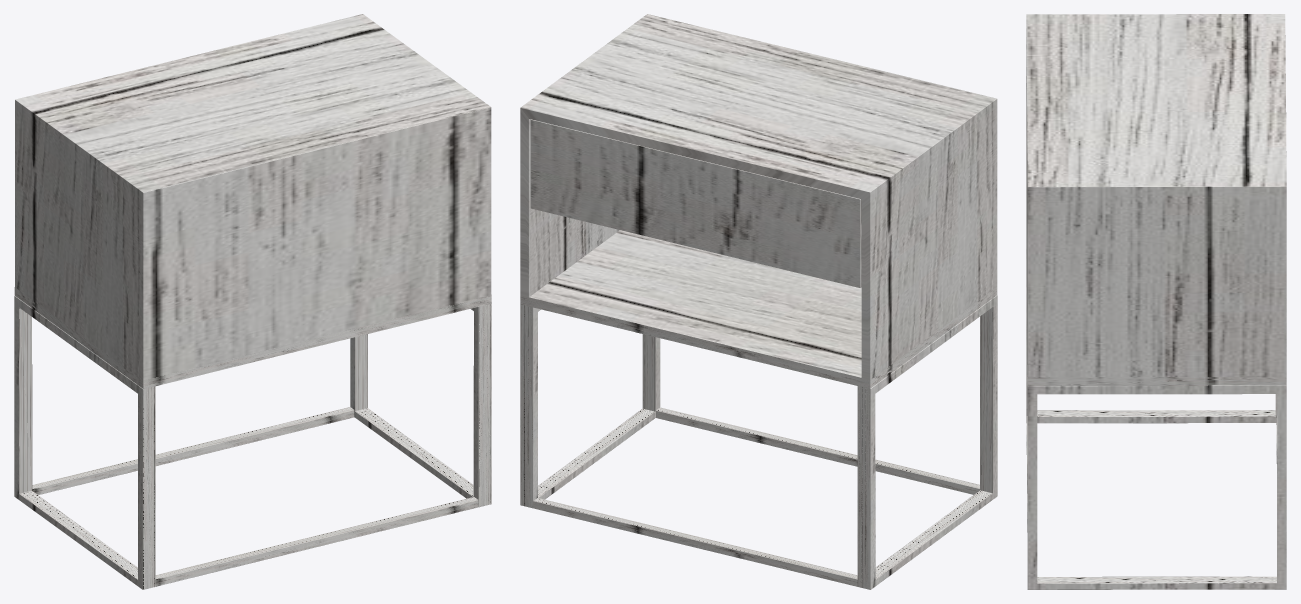
File: mueble2.obj
3 views of the same model, side by side, from view 1: azimuth 30°, elevation 25°; view 2: azimuth 150°, elevation 25°; view 3: azimuth 270°, elevation 25° (orthographic).
Parts seen in each view (by area): view 1: Cube_002, Cube_012, Cube_013, Cube_005, Cube_015, Cube_014; view 2: Cube_002, Cube_005, Cube_006, Cube_012, Cube_013, Cube_014, Cube_015; view 3: Cube_002, Cube_013, Cube_012, Cube_005.
Part boxes in pixels (x1=…): Cube_002: x1=15, y1=14, x2=491, y2=379; Cube_012: x1=14, y1=296, x2=155, y2=589; Cube_013: x1=350, y1=303, x2=491, y2=507; Cube_005: x1=14, y1=287, x2=491, y2=388; Cube_015: x1=155, y1=497, x2=478, y2=586; Cube_014: x1=32, y1=407, x2=354, y2=494; Cube_002: x1=520, y1=14, x2=997, y2=379; Cube_005: x1=520, y1=230, x2=997, y2=388; Cube_006: x1=530, y1=119, x2=861, y2=287; Cube_012: x1=857, y1=295, x2=997, y2=589; Cube_013: x1=520, y1=304, x2=660, y2=507; Cube_014: x1=521, y1=498, x2=861, y2=587; Cube_015: x1=656, y1=407, x2=979, y2=494; Cube_002: x1=1026, y1=14, x2=1286, y2=377; Cube_013: x1=1027, y1=385, x2=1286, y2=589; Cube_012: x1=1026, y1=249, x2=1277, y2=423; Cube_005: x1=1026, y1=240, x2=1286, y2=385.
Bounding box in the file's own units: 17.15 × 18.58 × 10.89.
1 material, 1 textured.
